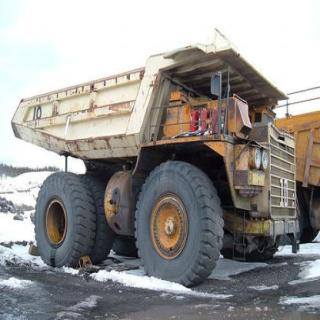Normal_vehicle: (8, 41, 302, 286)
